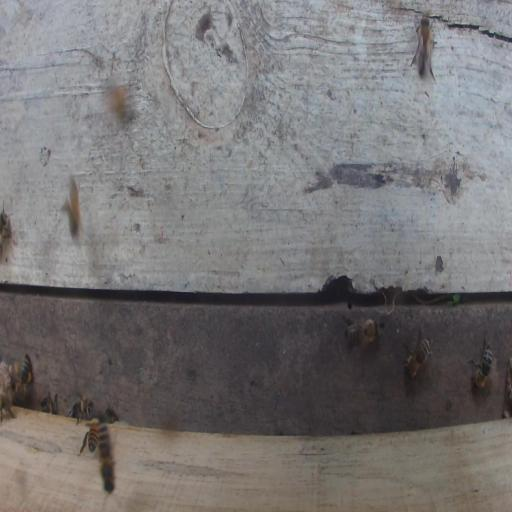nonpollenbee: (410, 12, 438, 83), (467, 334, 492, 391), (404, 328, 431, 379), (343, 317, 384, 349), (98, 427, 115, 494), (67, 174, 83, 242), (79, 418, 107, 455), (106, 84, 133, 120), (69, 398, 95, 424), (0, 206, 13, 250), (1, 393, 16, 421), (40, 392, 58, 414)
pollenbee: (13, 352, 32, 405)
